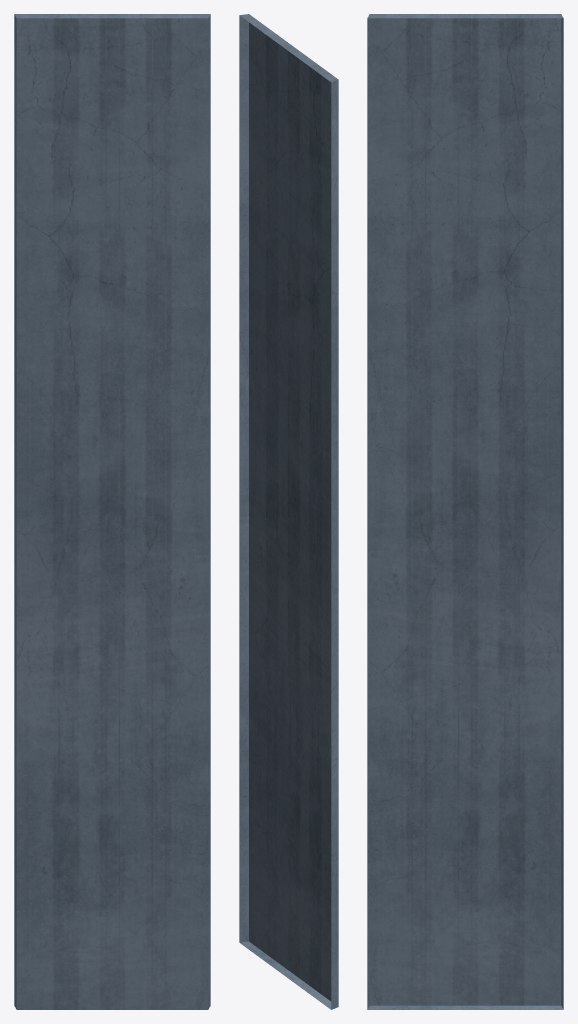
The model's file is MB_Rusticated_Corner_02.fbx.
The picture shows the model from 3 angles, left to right: view 1: azimuth 90°, elevation 25°; view 2: azimuth 210°, elevation 25°; view 3: azimuth 270°, elevation 25°; orthographic projection. The views are drawn at different scales.
Parts seen in each view (by area): view 1: MB_Rusticated_Corner_02; view 2: MB_Rusticated_Corner_02; view 3: MB_Rusticated_Corner_02.
Part boxes in pixels (x1,y1,x2,y2): MB_Rusticated_Corner_02: (14, 14, 210, 1009); MB_Rusticated_Corner_02: (239, 14, 338, 1009); MB_Rusticated_Corner_02: (367, 14, 563, 1009).
Bounding box in the file's own units: 3.83 × 400 × 71.82.
